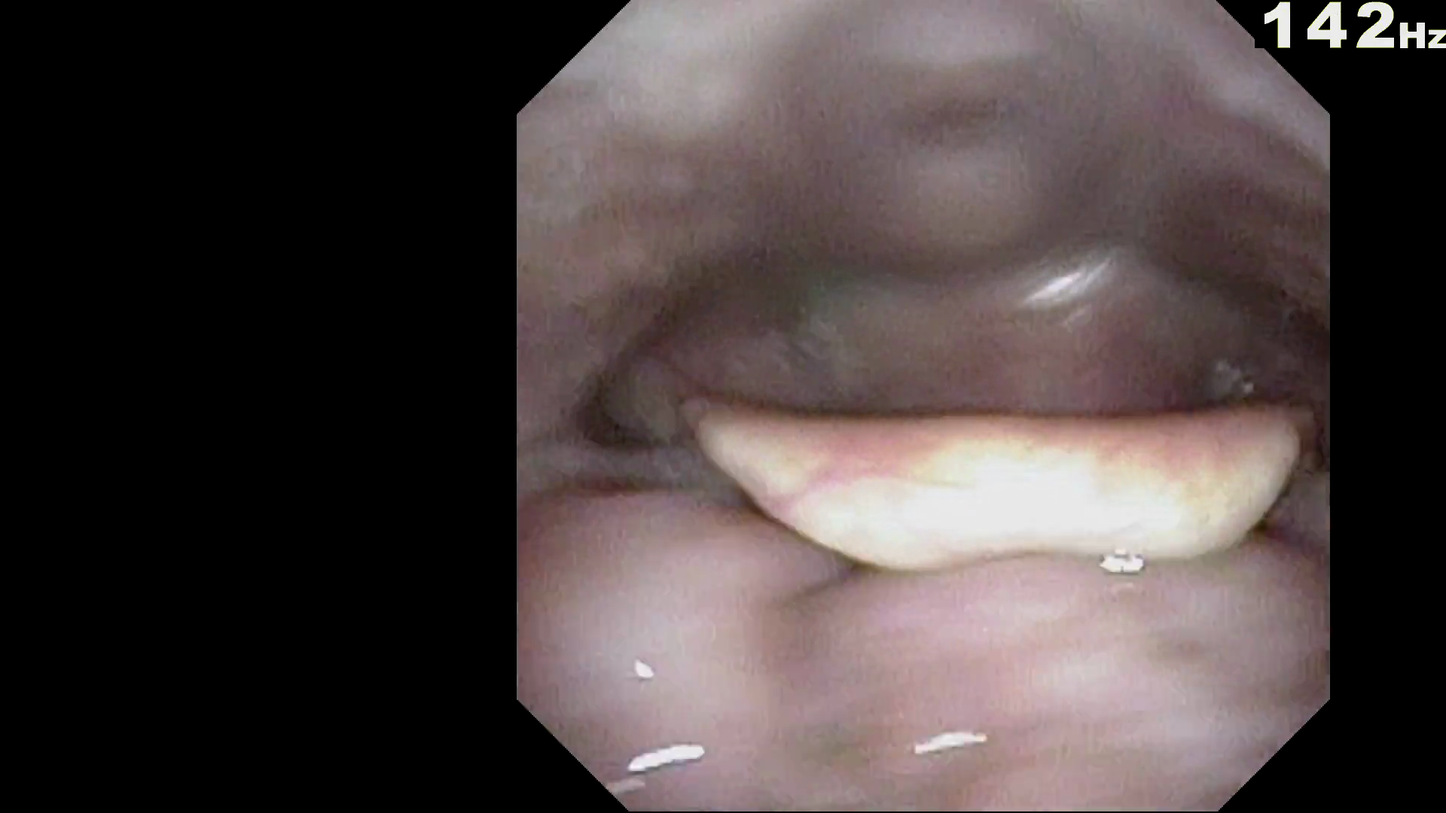epiglottis: (661, 403, 1276, 628)
